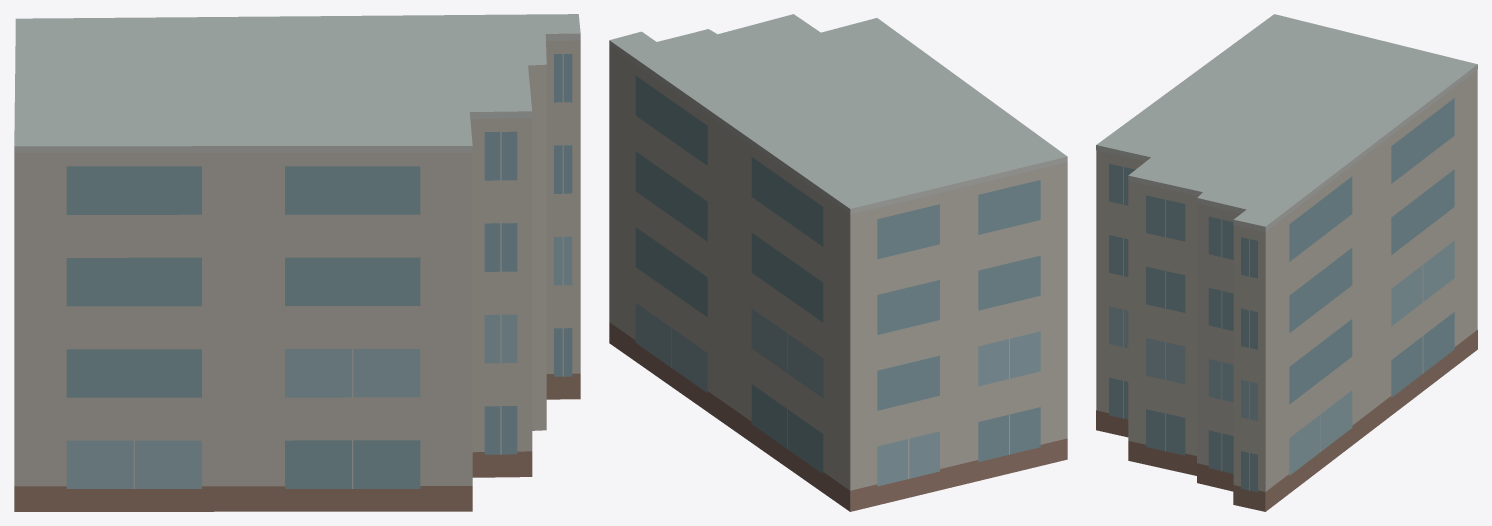
Rendered from survey-upis-32998968.glb.
3 renders of one model, left to right at view 1: azimuth 30°, elevation 25°; view 2: azimuth 150°, elevation 25°; view 3: azimuth 270°, elevation 25°, orthographic. The views are drawn at different scales.
Parts seen in each view (by area): view 1: survey-upis-32998968.tmp; view 2: survey-upis-32998968.tmp; view 3: survey-upis-32998968.tmp.
Part boxes in pixels (bbox=[...]): survey-upis-32998968.tmp: bbox=[14, 14, 580, 511]; survey-upis-32998968.tmp: bbox=[609, 14, 1067, 511]; survey-upis-32998968.tmp: bbox=[1096, 14, 1477, 511].
Size of the model in its own units: 20.93 by 13.08 by 15.87.
